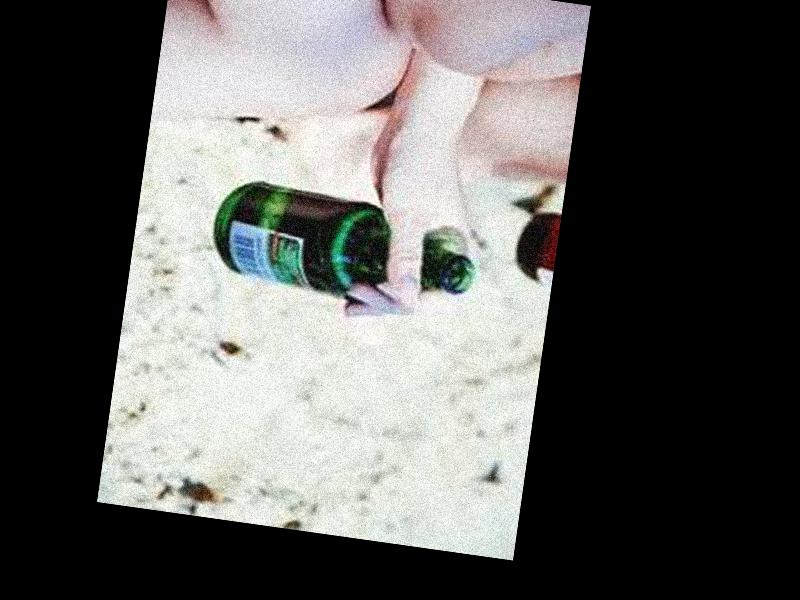Beer: (207, 174, 485, 314)
